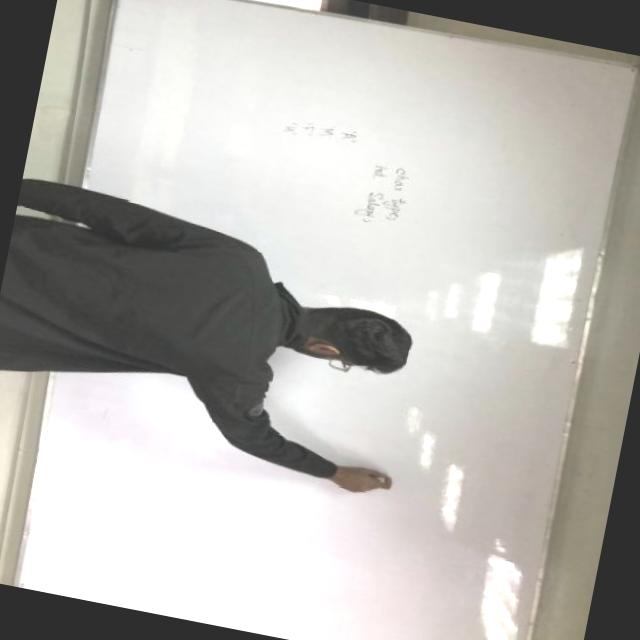Instructor: (0, 184, 441, 438)
White-board: (17, 0, 635, 640)
